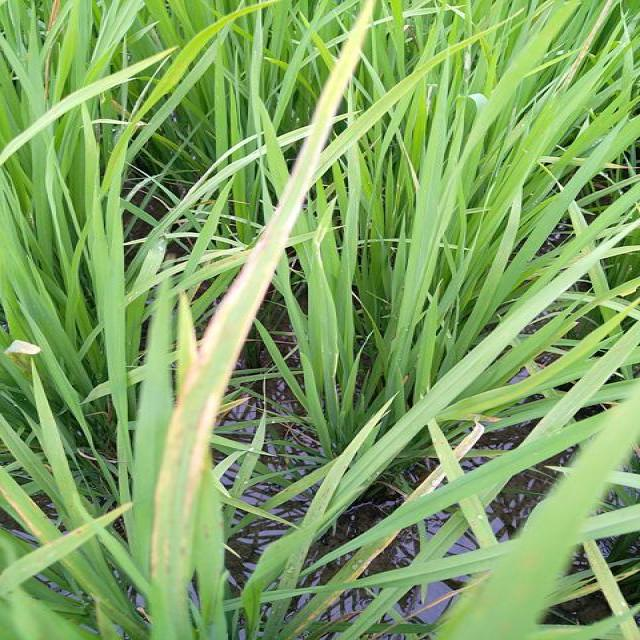Leaf Blight: (152, 0, 381, 576)
